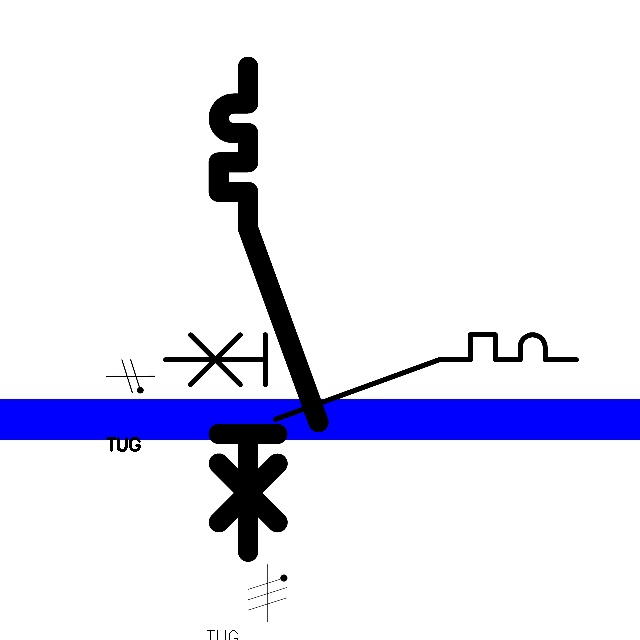interruptor_termomagnetico: (206, 54, 331, 564), (154, 324, 586, 429)
